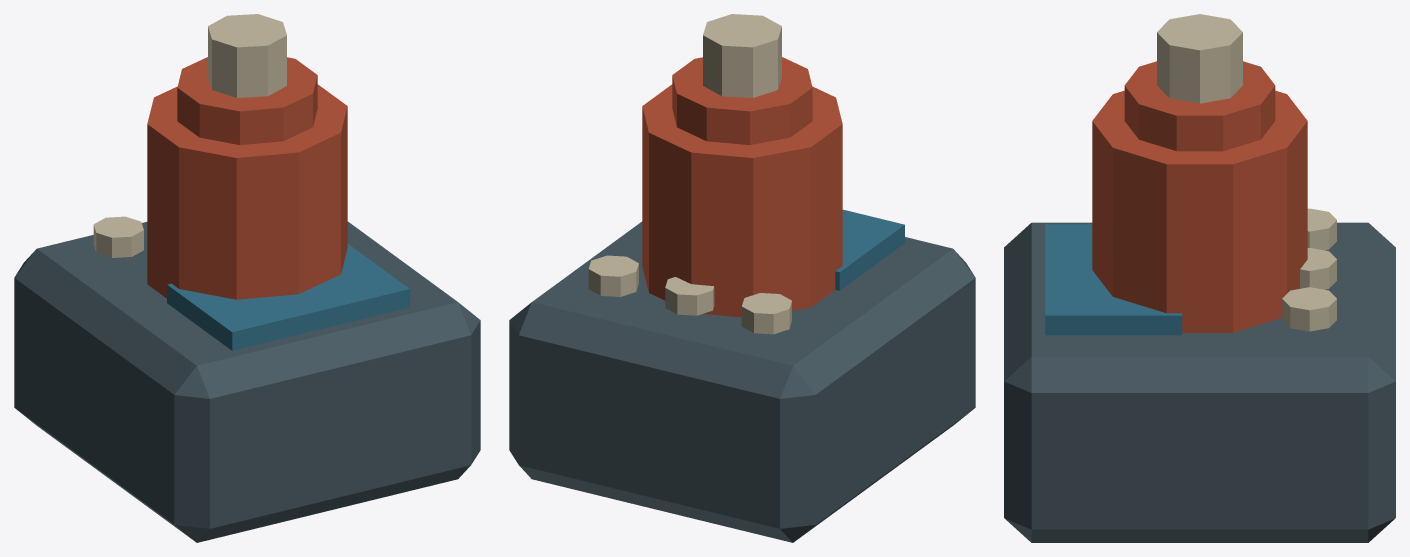
The model's file is set_fire_extinguisher_small.glb.
The picture shows the model from 3 angles, left to right: view 1: azimuth 30°, elevation 25°; view 2: azimuth 150°, elevation 25°; view 3: azimuth 270°, elevation 25°; orthographic projection. The views are drawn at different scales.
Parts seen in each view (by area): view 1: set_fire_extinguisher_small; view 2: set_fire_extinguisher_small; view 3: set_fire_extinguisher_small.
Part boxes in pixels (x1,y1,x2,y2): set_fire_extinguisher_small: (14, 14, 480, 542); set_fire_extinguisher_small: (509, 14, 975, 542); set_fire_extinguisher_small: (1004, 14, 1395, 542).
Bounding box in the file's own units: 0.19 × 0.25 × 0.2.
